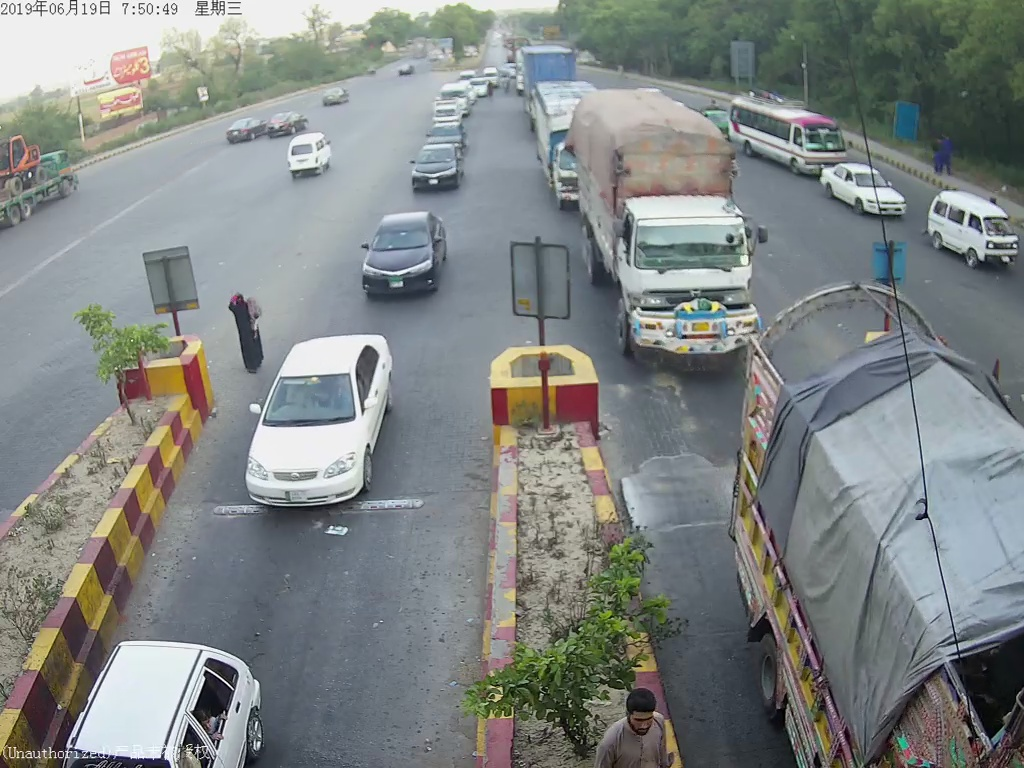Cat-1: (246, 322, 402, 502), (352, 198, 452, 295), (404, 141, 462, 191)
Cat-4: (574, 80, 767, 361)
